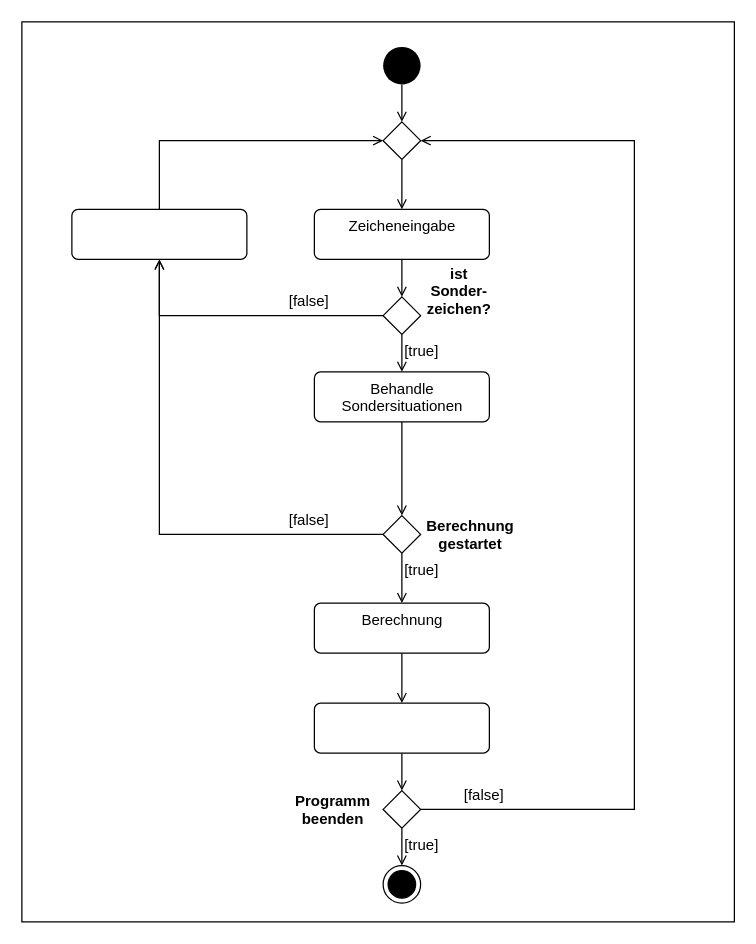
The diagram is 756 pixels wide and 944 high, and some of its shapes have lost their labels. The centre of each missing label's shape, as x and y in pixels:
"Anzeige des Zeichenstrings" belongs at [159,233].
"Ergebnisausgabe (inkl. Zeichenstring)" belongs at [401,727].
